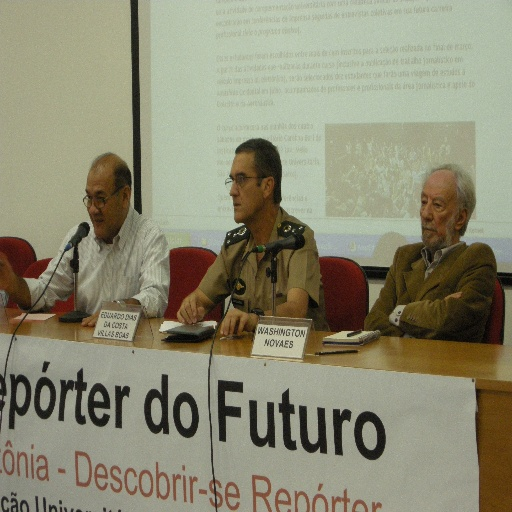hand: (213, 303, 259, 345), (175, 293, 207, 327), (80, 304, 120, 329), (0, 248, 16, 293), (442, 291, 462, 300)
